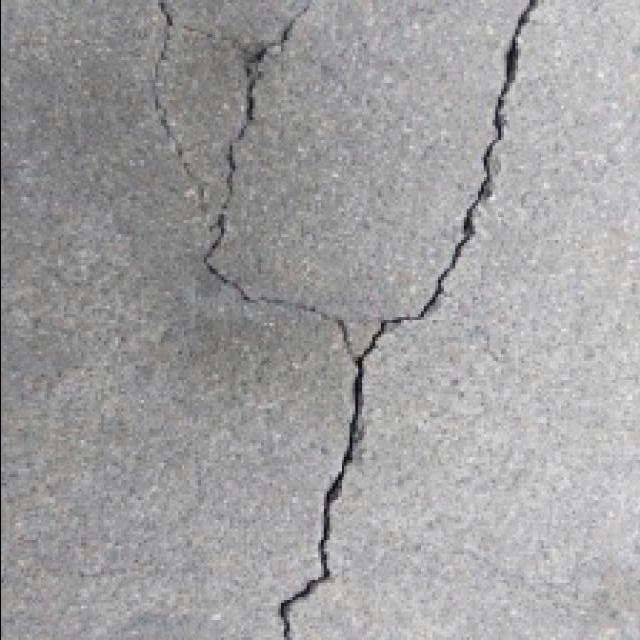SurfaceCrack: (290, 0, 534, 640), (126, 0, 366, 382)
